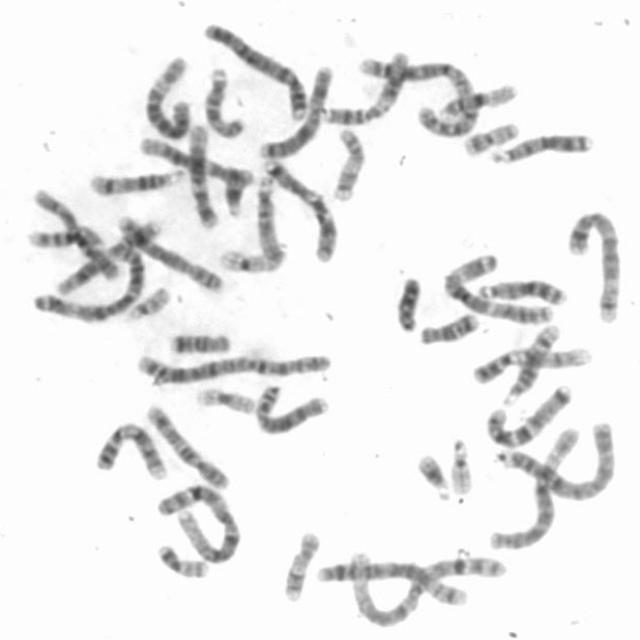A1: (338, 548, 508, 629), (150, 478, 244, 567)
A2: (355, 50, 484, 139), (132, 344, 334, 387)
A3: (24, 210, 162, 325), (438, 246, 559, 326)
B4: (198, 15, 310, 122), (493, 417, 619, 501)
B5: (312, 554, 475, 608), (562, 203, 626, 325)
C10: (27, 182, 123, 284), (140, 399, 233, 492)
C11: (56, 214, 166, 298), (317, 45, 413, 128)
C12: (134, 131, 254, 187), (184, 118, 223, 229)
C6: (485, 420, 584, 552), (138, 50, 195, 141)
C7: (257, 153, 342, 265), (480, 378, 577, 450)
C8: (112, 208, 228, 294), (250, 379, 332, 437)
C9: (467, 339, 596, 386), (90, 416, 170, 482)
D13: (486, 126, 596, 166), (472, 273, 571, 307)
D14: (497, 318, 564, 407), (84, 162, 187, 197)
D15: (199, 60, 246, 140), (251, 168, 288, 268)
E16: (432, 77, 521, 121), (22, 220, 106, 252)
E17: (278, 525, 322, 604), (327, 122, 368, 204)
E18: (414, 307, 481, 346), (165, 326, 235, 356)
F19: (190, 382, 259, 416), (214, 242, 278, 274)
F20: (459, 115, 522, 157), (152, 538, 212, 580)
G21: (411, 446, 455, 502), (220, 163, 253, 219)
G22: (121, 281, 173, 323), (446, 433, 476, 496)
X: (254, 59, 336, 161)
Y: (390, 270, 424, 333)
